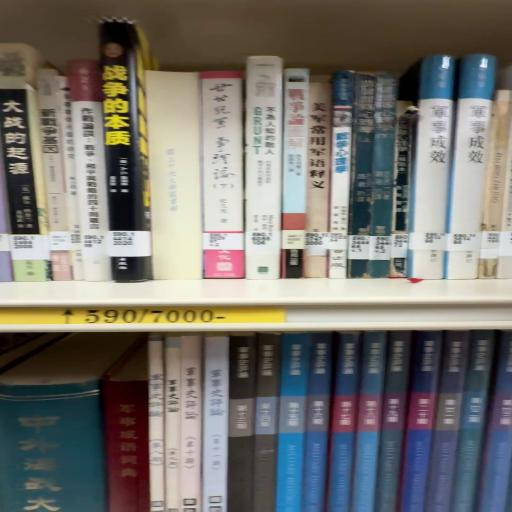backward: (144, 76, 201, 286)
book: (203, 75, 247, 286), (242, 61, 283, 287), (104, 379, 151, 512), (475, 334, 510, 512), (204, 340, 233, 512), (177, 341, 203, 512)
